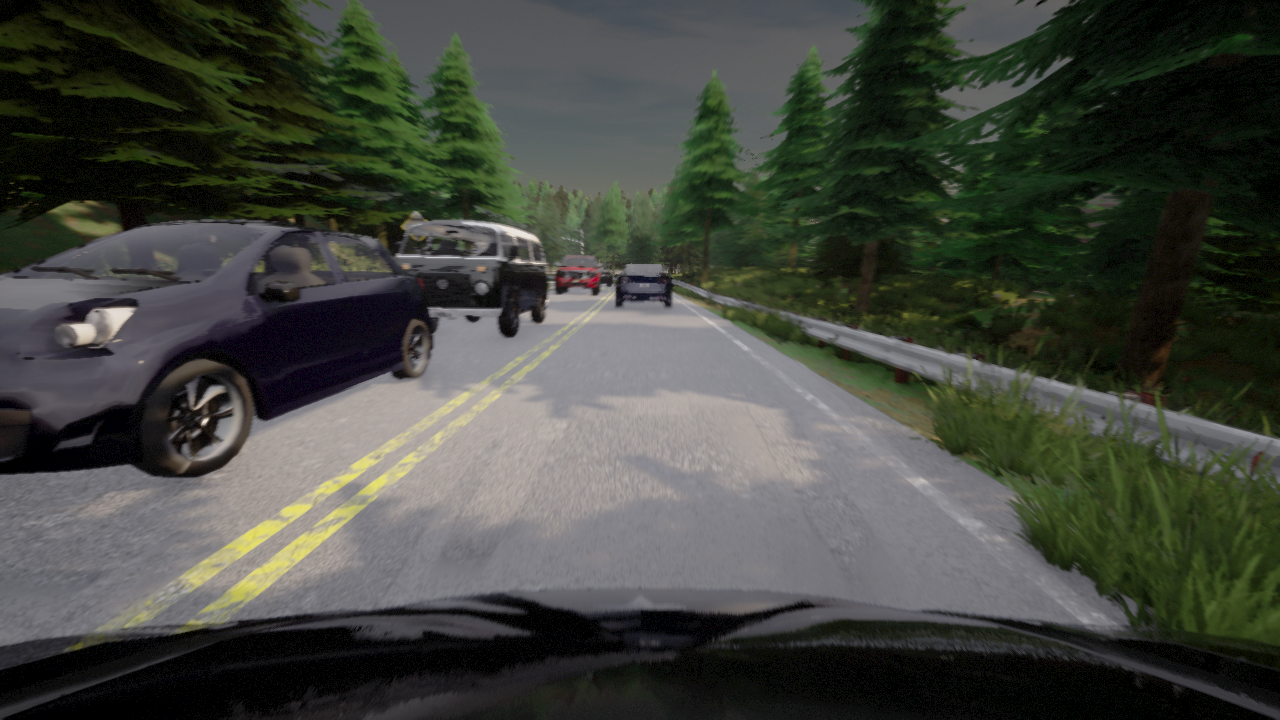cyclist: (0, 588, 1279, 719), (0, 220, 432, 476), (394, 220, 548, 336), (615, 264, 672, 307), (555, 255, 600, 294), (598, 268, 611, 285), (620, 273, 621, 275)
